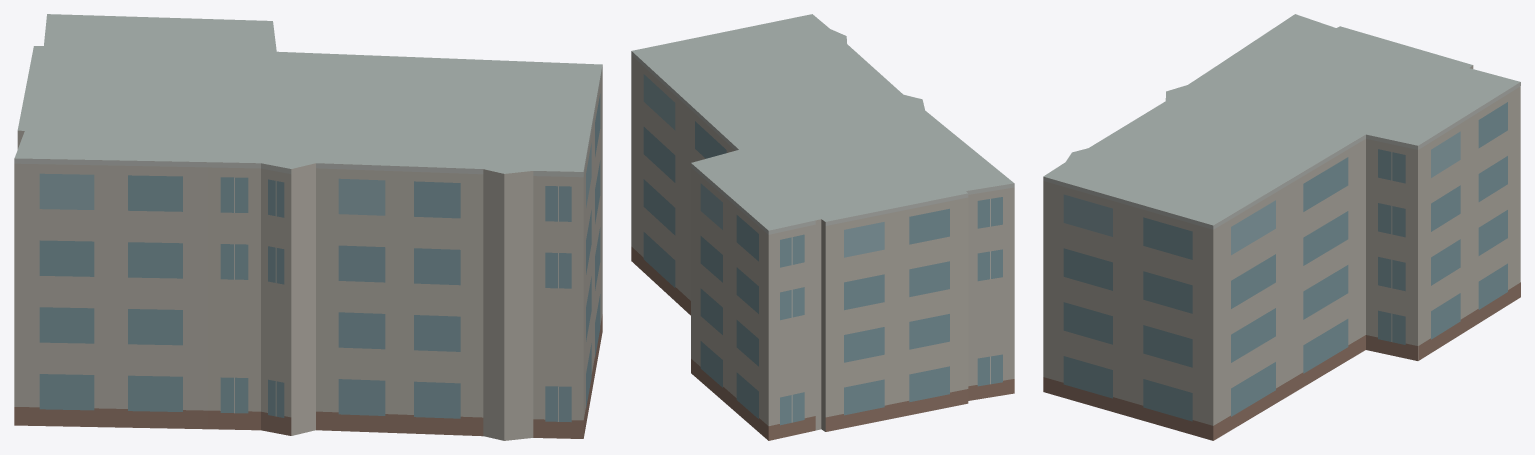
File: survey-upis-32737348.glb
3 views of the same model, side by side, from view 1: azimuth 30°, elevation 25°; view 2: azimuth 150°, elevation 25°; view 3: azimuth 270°, elevation 25° (orthographic). The views are drawn at different scales.
Visible parts, largest first — view 1: survey-upis-32737348.tmp; view 2: survey-upis-32737348.tmp; view 3: survey-upis-32737348.tmp.
Boxes of the visible parts, x1,y1,x2,y2 form: survey-upis-32737348.tmp: (14, 14, 602, 440); survey-upis-32737348.tmp: (631, 14, 1014, 440); survey-upis-32737348.tmp: (1043, 14, 1520, 440).
Bounding box in the file's own units: 26.12 × 12.4 × 24.92.
